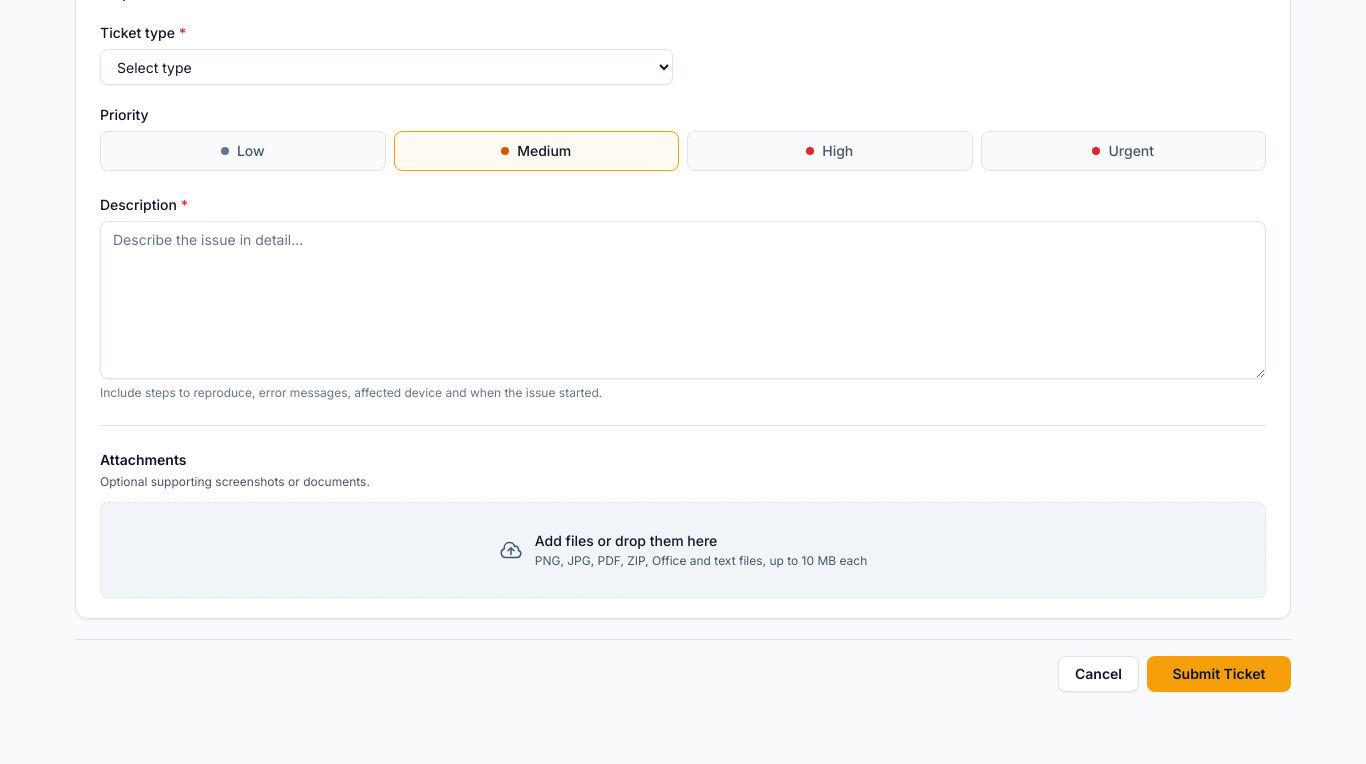
Test: NewTicketPage › validates required customer ticket fields
This screenshot has width=1366, height=764.
(page scrolled)
Click the button "Submit Ticket". click: {"x": 1219, "y": 674}
box: x1=1147 y1=656 x2=1291 y2=692
(page scrolled)
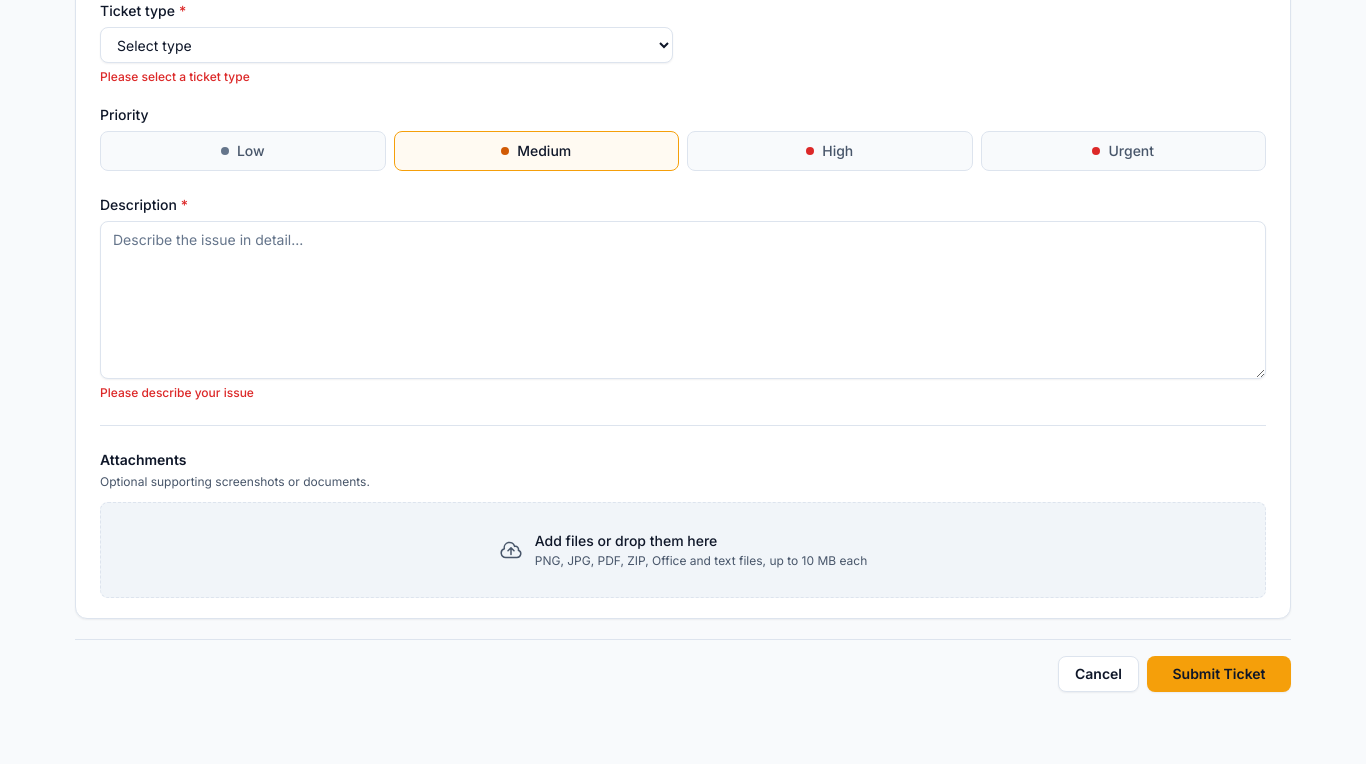
Now the text "Please select a ticket type" is shown, box x1=100 y1=69 x2=250 y2=84
Now the text "Please describe your issue" is shown, box x1=100 y1=385 x2=254 y2=400
